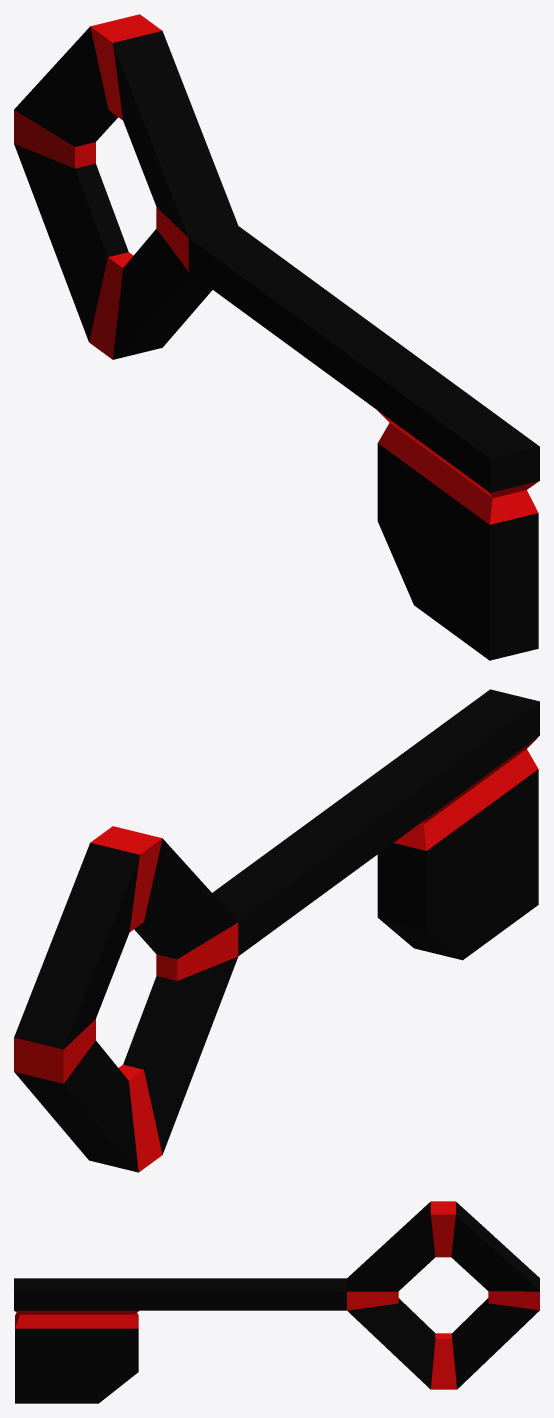
The model's file is LowPolyRedKey.fbx.
3 views of the same model, one above another, from view 1: azimuth 30°, elevation 25°; view 2: azimuth 150°, elevation 25°; view 3: azimuth 270°, elevation 25° (orthographic). The views are drawn at different scales.
Visible parts, largest first — view 1: Cube; view 2: Cube; view 3: Cube.
Part boxes in pixels (x1,y1,x2,y2): Cube: (14,14,539,660); Cube: (14,689,539,1172); Cube: (14,1201,539,1403).
Bounding box in the file's own units: 3.81 × 25.09 × 63.27.
